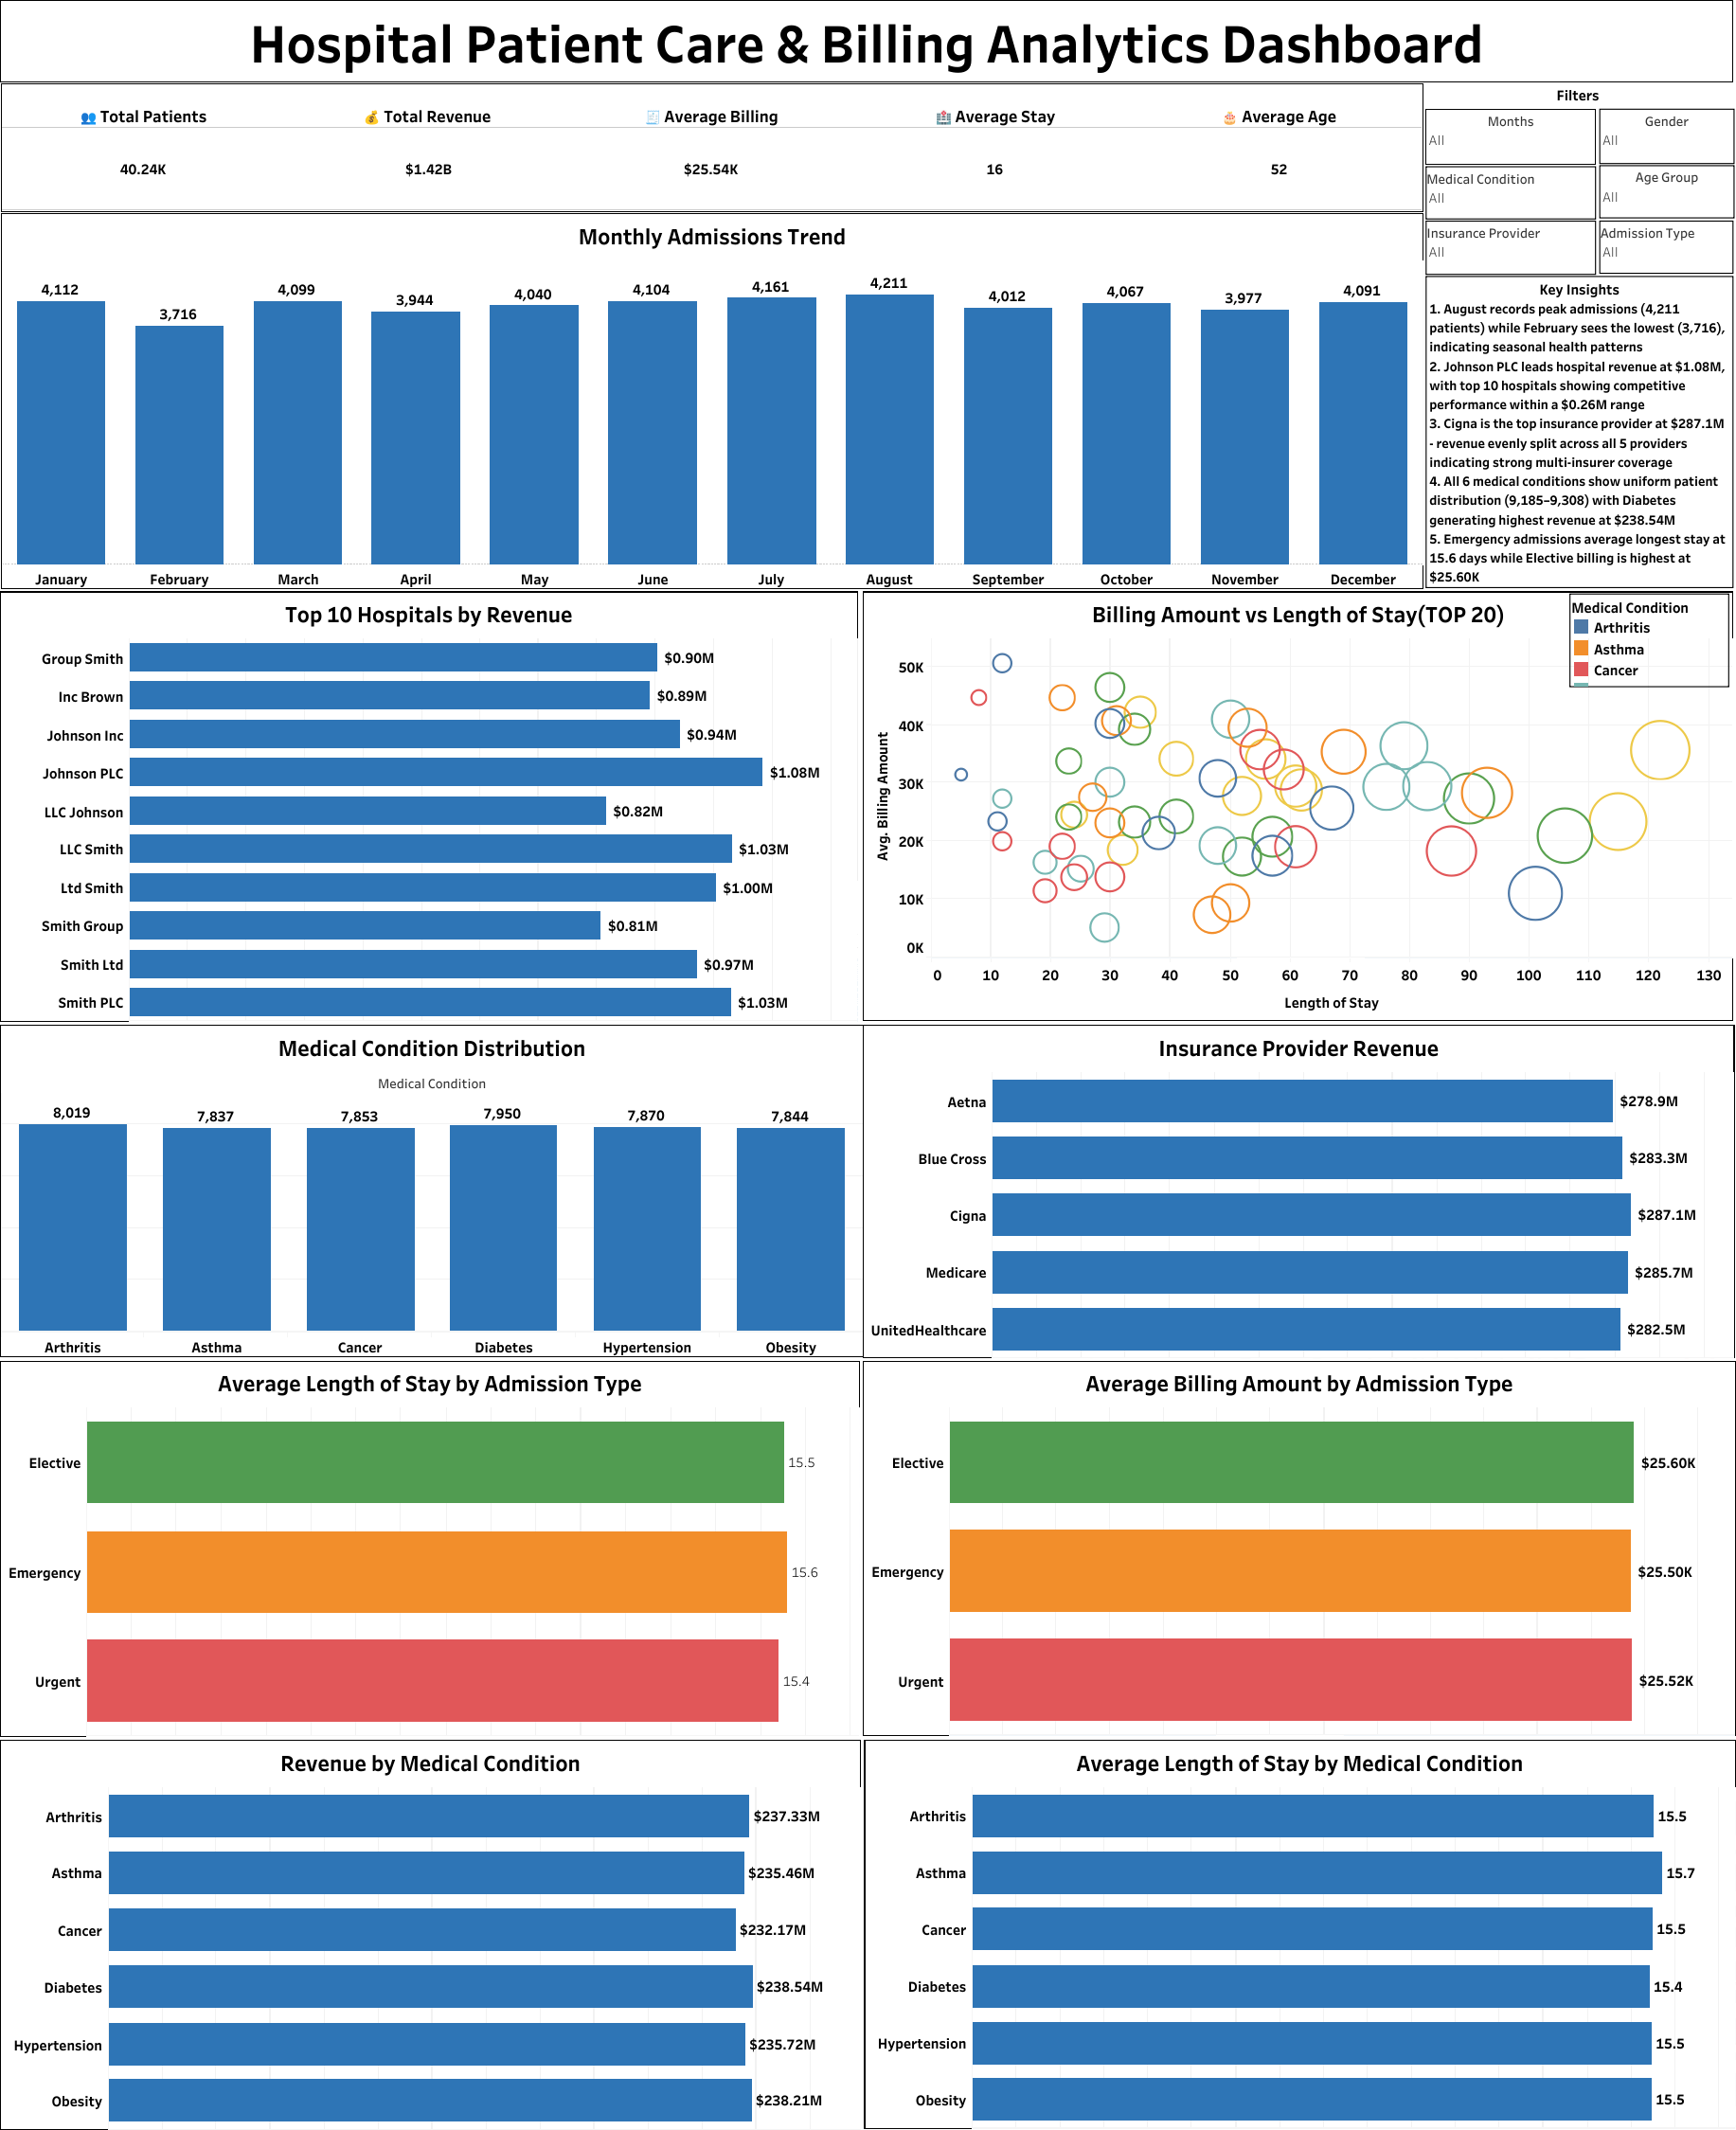

The dashboard page shown, as its layout file describes it:
{"tool":"tableau","page":{"name":"Dashboard 1","canvas":[1630,2000],"ordinal":0},"visuals":[{"type":"text","box":[0,0,1627,77]},{"type":"text","box":[1337,76,288,25]},{"type":"worksheet","title":"KPI","mark":"Automatic","box":[1,78,1335,121]},{"type":"filter","title":"Monthly Admissions Trend","param":"[federated.104cquk0cfe9r81a91k7c1f0oww3].[none:Calculation_0820802927546369:nk]","box":[1338,102,160,53]},{"type":"filter","title":"Monthly Admissions Trend","param":"[federated.104cquk0cfe9r81a91k7c1f0oww3].[none:Gender:nk]","box":[1501,102,127,52]},{"type":"filter","title":"Monthly Admissions Trend","param":"[federated.104cquk0cfe9r81a91k7c1f0oww3].[none:Age_Group:nk]","box":[1501,155,127,50]},{"type":"filter","title":"Monthly Admissions Trend","param":"[federated.104cquk0cfe9r81a91k7c1f0oww3].[none:Medical Condition:nk]","box":[1338,156,160,50]},{"type":"worksheet","title":"Monthly Admissions Trend","mark":"Bar","rows":["Name"],"cols":["Calculation_0820802927546369"],"box":[1,200,1335,353]},{"type":"filter","title":"Monthly Admissions Trend","param":"[federated.104cquk0cfe9r81a91k7c1f0oww3].[none:Insurance Provider:nk]","box":[1338,207,160,51]},{"type":"filter","title":"Monthly Admissions Trend","param":"[federated.104cquk0cfe9r81a91k7c1f0oww3].[none:Admission Type:nk]","box":[1501,207,126,50]},{"type":"text","box":[1338,259,289,293]},{"type":"worksheet","title":"Top 10 Hospitals by Revenue","mark":"Automatic","rows":["Hospital"],"cols":["Billing Amount"],"box":[0,555,805,404]},{"type":"worksheet","title":"Billing Amount vs Length of Stay","mark":"Automatic","rows":["Billing Amount"],"cols":["Length_of_Stay"],"box":[810,555,817,403]},{"type":"legend","title":"Billing Amount vs Length of Stay","param":"[federated.104cquk0cfe9r81a91k7c1f0oww3].[none:Medical Condition:nk]","box":[1473,557,150,88]},{"type":"worksheet","title":"Medical Condition Distribution","mark":"Bar","rows":["Name"],"cols":["Medical Condition"],"box":[0,962,811,312]},{"type":"worksheet","title":"Insurance Provider Revenue","mark":"Automatic","rows":["Insurance Provider"],"cols":["Billing Amount"],"box":[810,962,818,313]},{"type":"worksheet","title":"Average Length of Stay by Medical Condition","mark":"Automatic","rows":["Admission Type"],"cols":["Length_of_Stay"],"box":[0,1277,807,353]},{"type":"worksheet","title":"Average Billing Amount by Admission Type","mark":"Automatic","rows":["Admission Type"],"cols":["Billing Amount"],"box":[810,1277,819,352]},{"type":"worksheet","title":"Revenue by Medical Condition","mark":"Automatic","rows":["Medical Condition"],"cols":["Billing Amount"],"box":[0,1633,808,366]},{"type":"worksheet","title":"Average Length of Stay by Admission Type","mark":"Automatic","rows":["Medical Condition"],"cols":["Length_of_Stay"],"box":[811,1633,818,365]}]}

Visuals, with their boxes in screenshot pixels (x1, y1, x2, y2), scaled from the page's 1630x2000 canvas onto the 1736x2130 screenshot:
text: [0,0,1733,82]
text: [1424,81,1730,108]
"KPI" worksheet: [1,83,1423,212]
"Monthly Admissions Trend" filter: [1425,109,1596,165]
"Monthly Admissions Trend" filter: [1599,109,1734,164]
"Monthly Admissions Trend" filter: [1599,165,1734,219]
"Monthly Admissions Trend" filter: [1425,166,1596,220]
"Monthly Admissions Trend" worksheet (Bar marks): [1,213,1423,589]
"Monthly Admissions Trend" filter: [1425,221,1596,275]
"Monthly Admissions Trend" filter: [1599,221,1733,274]
text: [1425,276,1733,588]
"Top 10 Hospitals by Revenue" worksheet: [0,591,857,1021]
"Billing Amount vs Length of Stay" worksheet: [863,591,1733,1020]
"Billing Amount vs Length of Stay" legend: [1568,593,1728,687]
"Medical Condition Distribution" worksheet (Bar marks): [0,1025,864,1357]
"Insurance Provider Revenue" worksheet: [863,1025,1734,1358]
"Average Length of Stay by Medical Condition" worksheet: [0,1360,860,1736]
"Average Billing Amount by Admission Type" worksheet: [863,1360,1735,1735]
"Revenue by Medical Condition" worksheet: [0,1739,861,2129]
"Average Length of Stay by Admission Type" worksheet: [864,1739,1735,2128]
